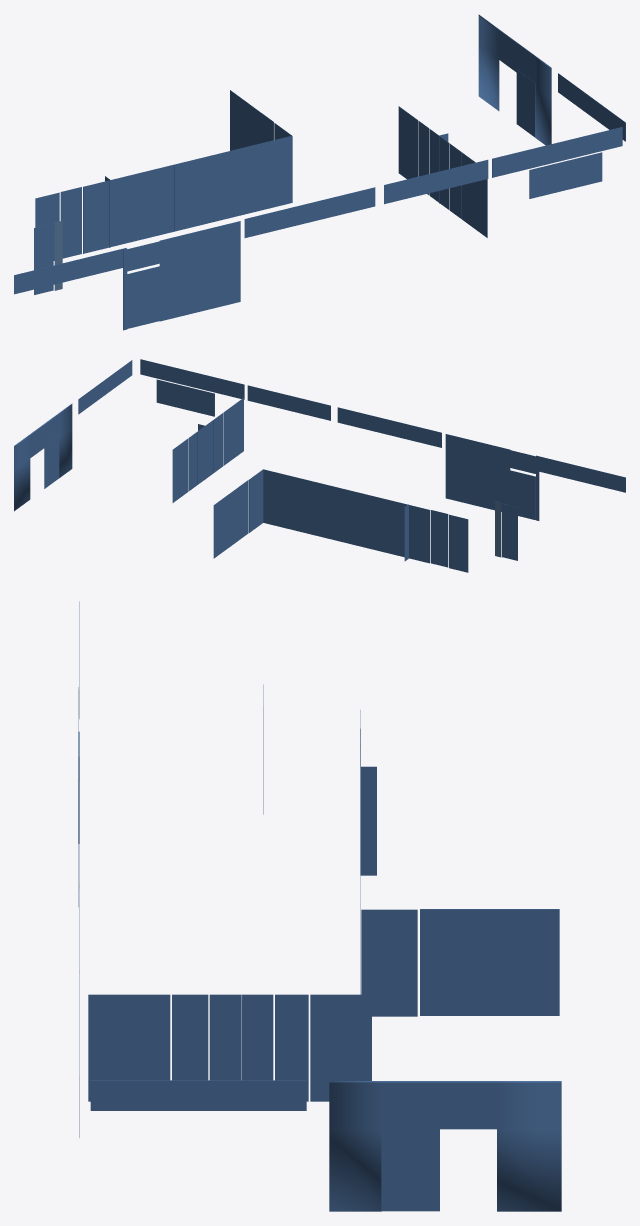
Rendered from EvonoveGlassTransparentMobile.obj.
3 renders of one model, top to bottom at view 1: azimuth 30°, elevation 25°; view 2: azimuth 150°, elevation 25°; view 3: azimuth 270°, elevation 25°, orthographic. The views are drawn at different scales.
Parts seen in each view (by area): view 1: FinestraScalette_Cube.048, VetroLabUfficio.001_Cube.056, Finestra_Cube.052, Cube_Cube.051, Cube.051_Cube.190, Finestra.003_Cube.179, Finestra.001_Cube.053, Cube_001.028_Cube.496, Cube.074_Cube.334, Cube_001.018_Cube.467, Cube_001.020_Cube.469, Cube_001.015_Cube.464 (+21 smaller); view 2: FinestraScalette_Cube.048, VetroLabUfficio.001_Cube.056, Finestra_Cube.052, Cube_Cube.051, Finestra.003_Cube.179, Cube.051_Cube.190, Finestra.001_Cube.053, Cube_001.028_Cube.496, Cube.074_Cube.334, Cube_001.016_Cube.465, Cube_001.011_Cube.471, Cube_001.020_Cube.469 (+23 smaller); view 3: VetroLabUfficio.001_Cube.056, Cube_001.012_Cube.461, Finestra.002_Cube.054, Cube_001.013_Cube.462, Cube.073_Cube.326, Cube_001.006_Cube.420, Cube_001.005_Cube.408, Cube_001.027_Cube.477, Cube_001.026_Cube.476, Cube_001.008_Cube.426, Cube_001.023_Cube.473, Cube_001.007_Cube.423 (+4 smaller).
Part boxes in pixels (x1,y1,x2,y2): FinestraScalette_Cube.048: [123, 221, 240, 330]; VetroLabUfficio.001_Cube.056: [478, 14, 551, 145]; Finestra_Cube.052: [244, 187, 375, 237]; Cube_Cube.051: [492, 127, 622, 177]; Cube.051_Cube.190: [529, 152, 602, 198]; Finestra.003_Cube.179: [14, 248, 126, 294]; Finestra.001_Cube.053: [384, 159, 488, 204]; Cube_001.028_Cube.496: [83, 180, 109, 253]; Cube.074_Cube.334: [127, 266, 159, 328]; Cube_001.018_Cube.467: [174, 159, 198, 231]; Cube_001.020_Cube.469: [127, 170, 151, 242]; Cube_001.015_Cube.464: [245, 141, 268, 214]; FinestraScalette_Cube.048: [445, 434, 539, 520]; VetroLabUfficio.001_Cube.056: [14, 403, 72, 511]; Finestra_Cube.052: [337, 407, 441, 447]; Cube_Cube.051: [140, 359, 244, 399]; Finestra.003_Cube.179: [536, 455, 625, 492]; Cube.051_Cube.190: [156, 379, 214, 416]; Finestra.001_Cube.053: [247, 385, 330, 420]; Cube_001.028_Cube.496: [409, 505, 430, 563]; Cube.074_Cube.334: [510, 470, 535, 519]; Cube_001.016_Cube.465: [300, 478, 319, 536]; Cube_001.011_Cube.471: [449, 514, 468, 572]; Cube_001.020_Cube.469: [375, 497, 394, 554]; VetroLabUfficio.001_Cube.056: [329, 1081, 561, 1211]; Cube_001.012_Cube.461: [496, 909, 559, 1015]; Finestra.002_Cube.054: [90, 1080, 306, 1110]; Cube_001.013_Cube.462: [361, 909, 417, 1016]; Cube.073_Cube.326: [381, 1124, 439, 1211]; Cube_001.006_Cube.420: [420, 909, 458, 1015]; Cube_001.005_Cube.408: [458, 909, 496, 1015]; Cube_001.027_Cube.477: [88, 994, 129, 1101]; Cube_001.026_Cube.476: [129, 994, 170, 1080]; Cube_001.008_Cube.426: [172, 994, 208, 1080]; Cube_001.023_Cube.473: [310, 994, 341, 1101]; Cube_001.007_Cube.423: [275, 994, 308, 1101].
Size of the model in its own units: 23.62 by 3.01 by 10.06.
